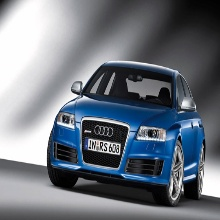no damage: (46, 60, 206, 207)
